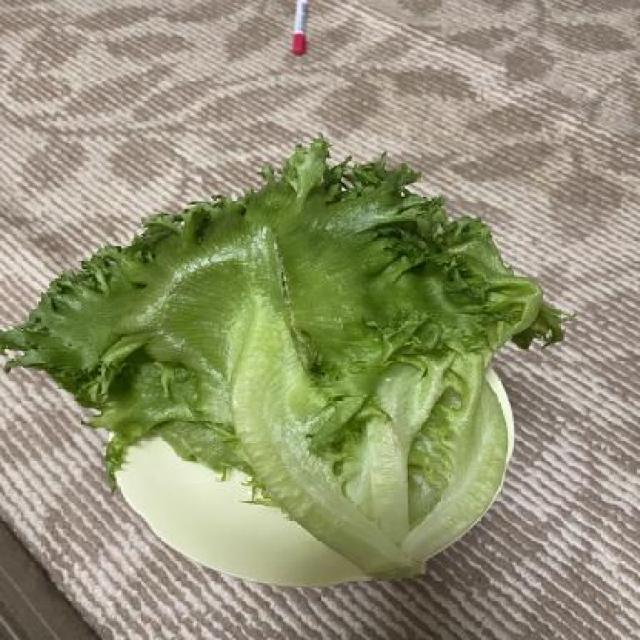lettuce: (2, 130, 580, 582)
